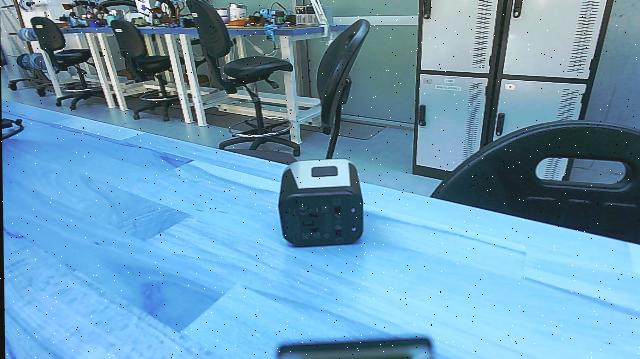adapter: (260, 145, 374, 257)
